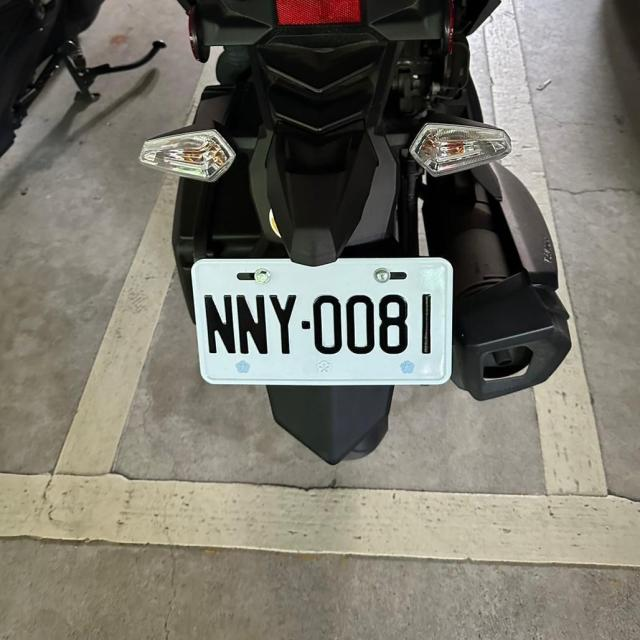W: (186, 248, 453, 390)
